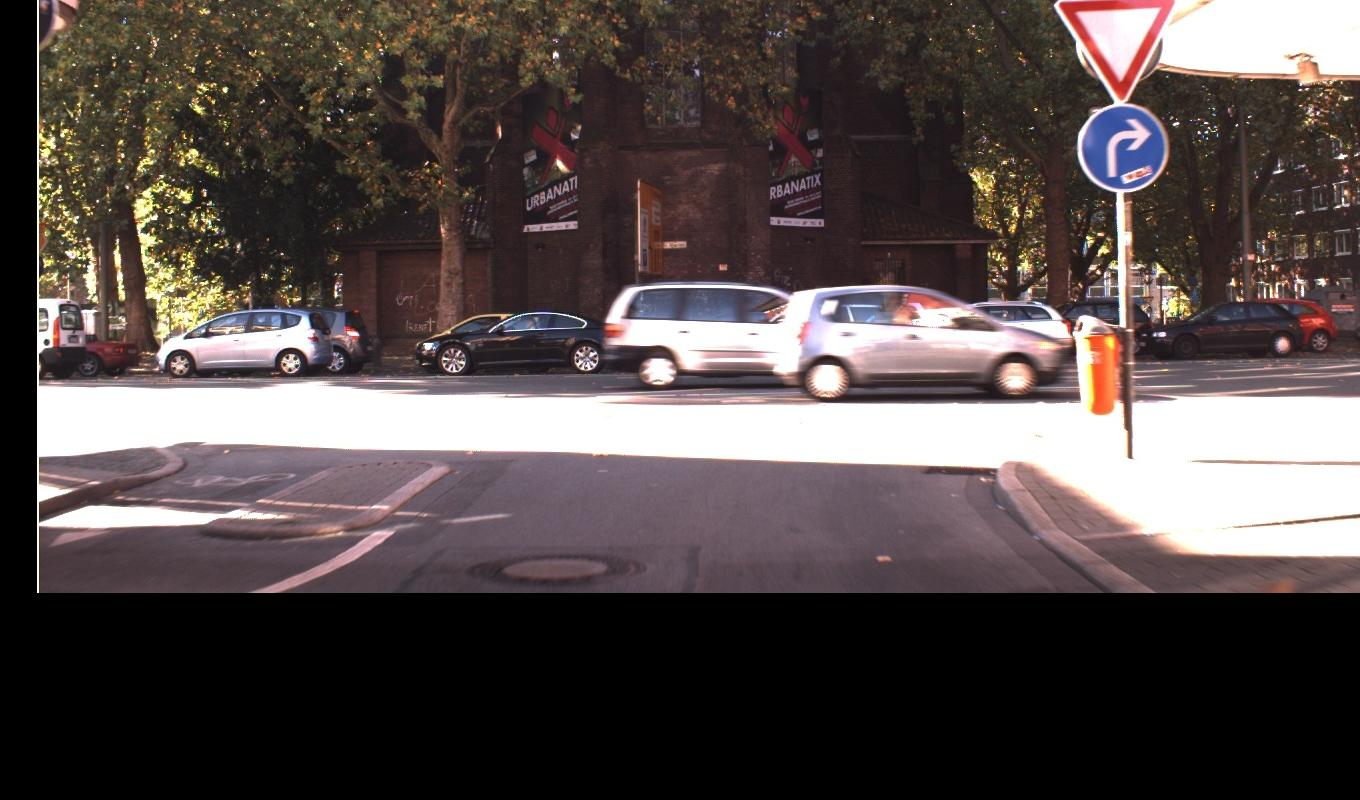go right: (1054, 0, 1178, 193)
